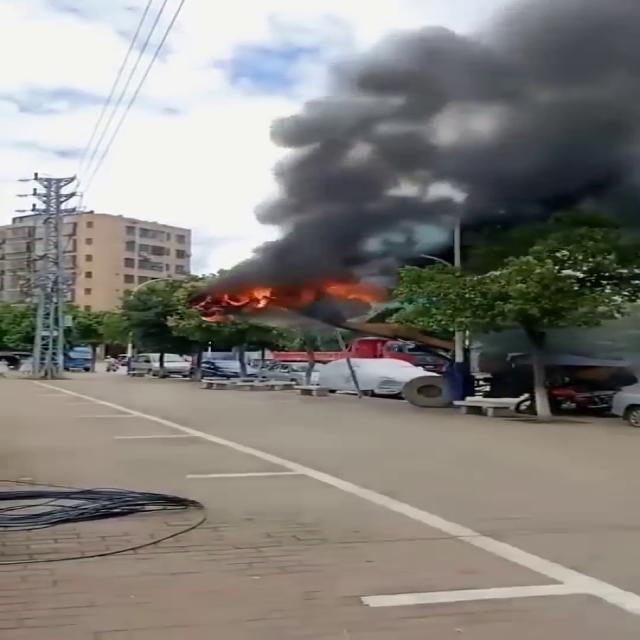Fire: (180, 284, 284, 318)
Smoke: (238, 0, 640, 290)
